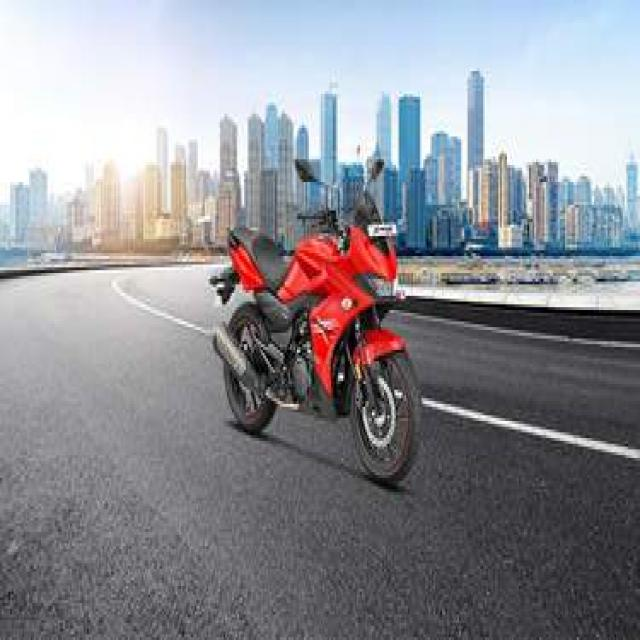Bike: (208, 154, 423, 488)
